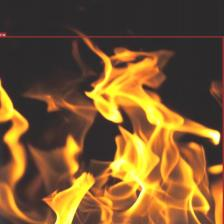fire: (0, 36, 224, 224)
